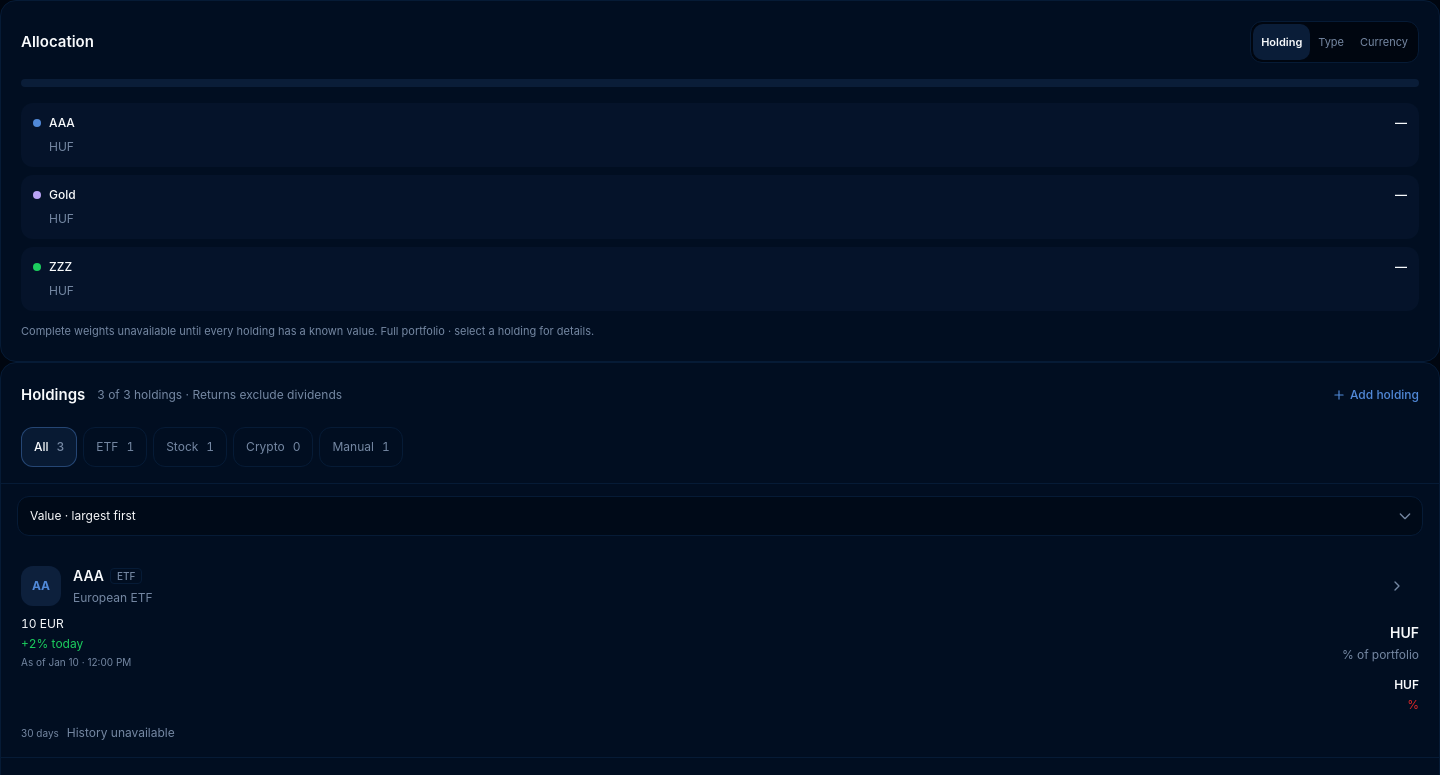
Test: filters only holdings from category or allocation selection and retains full-portfolio counts
Click the button "ETF 1" at (115, 447), box [83,427,147,467]
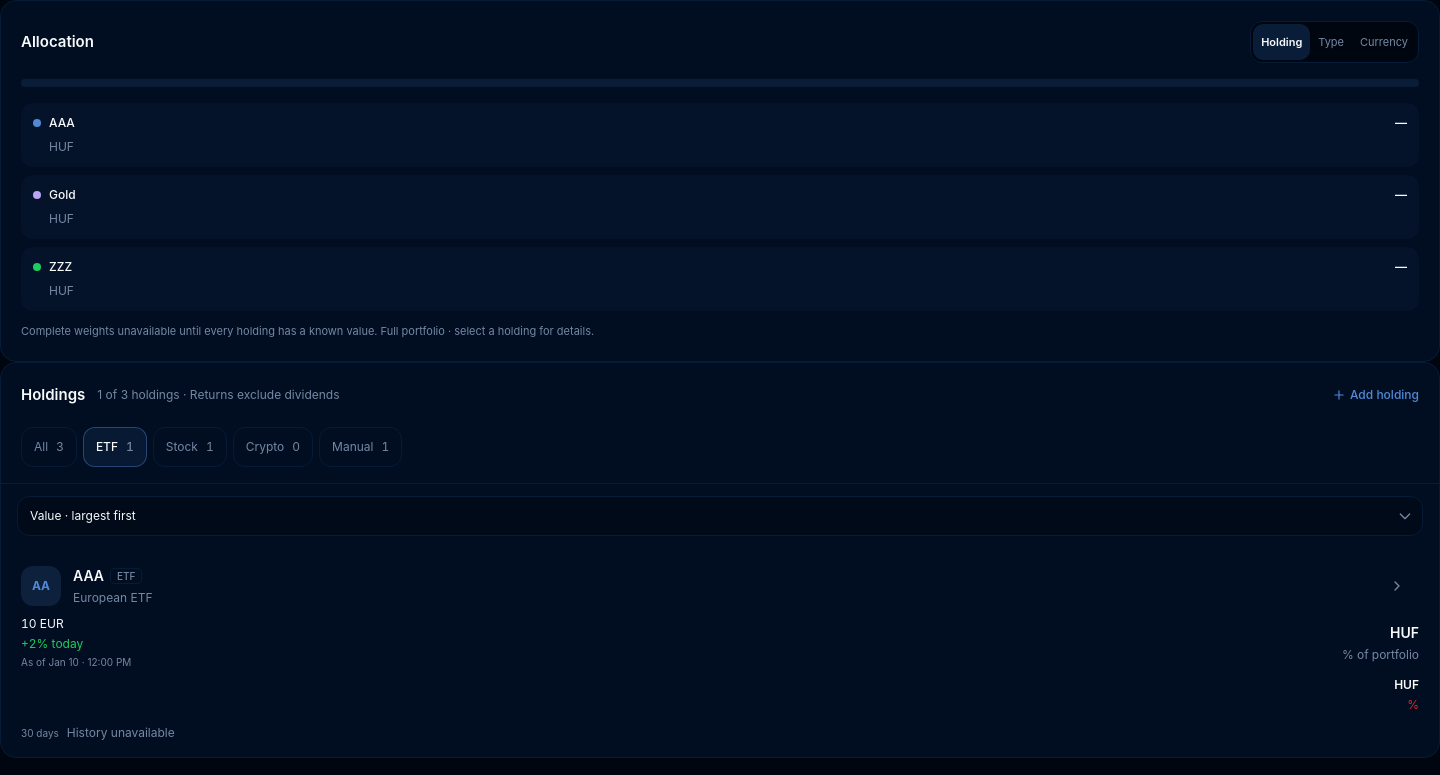
Check: the table named "Investment holdings" shows "AAA", box [21,564,1363,608]
Check: the element named "Portfolio allocation" shows "ZZZ", box [21,247,1419,311]
Click the button "type" at (1331, 42), box [1310,24,1352,60]
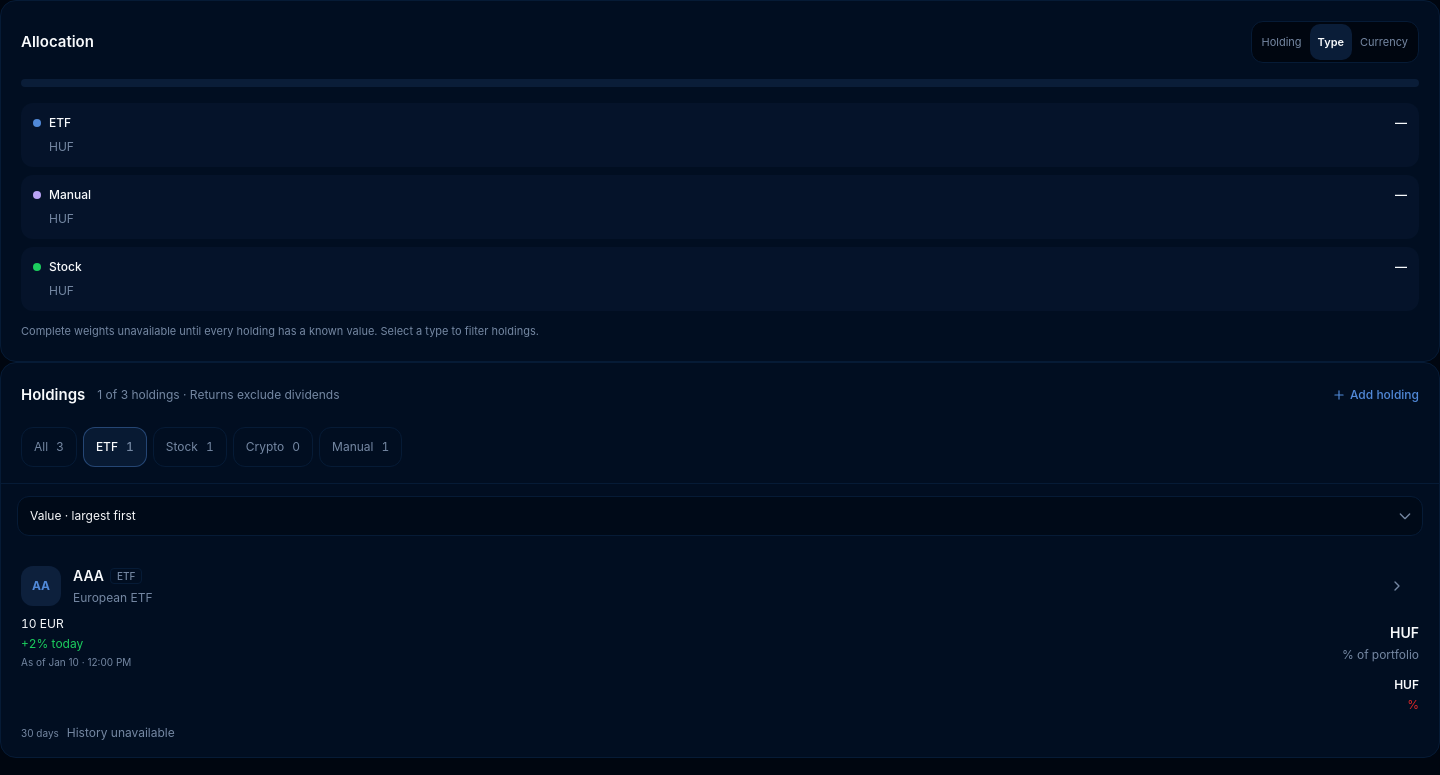
Click the button "Stock — HUF" at (65, 266), box [21,247,1419,311]
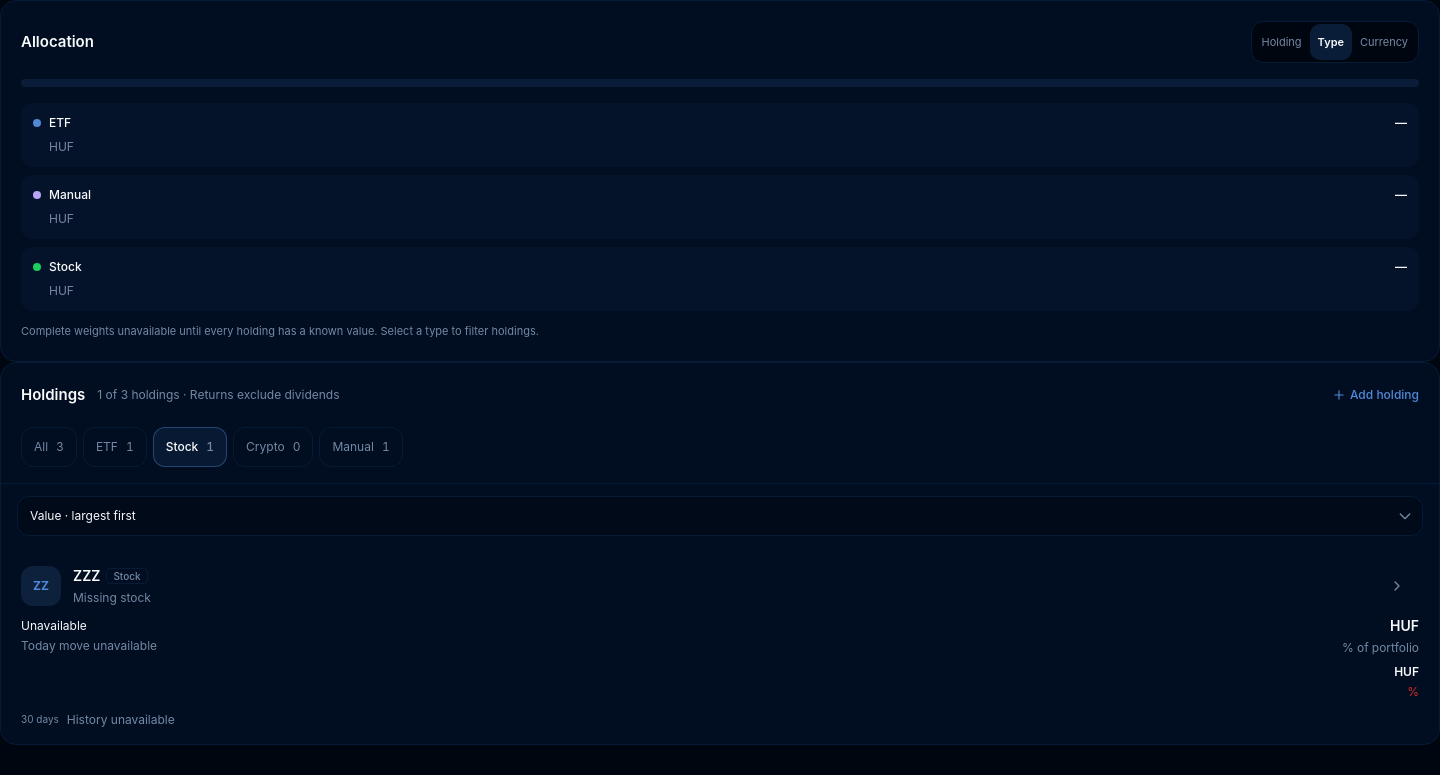
Check: the button with aria-label "Open ZZZ details" is shown, box [21,564,1363,608]
